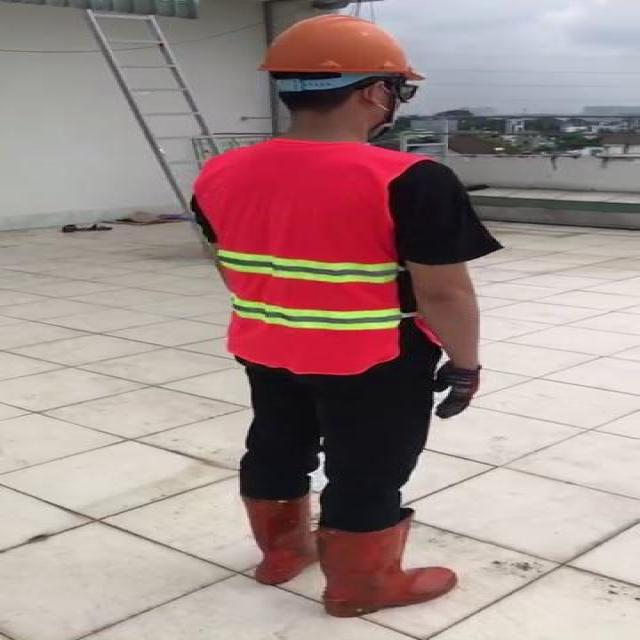boots: (314, 517, 458, 619), (237, 491, 314, 586)
hand_glove: (430, 364, 480, 421)
head_helmet: (253, 13, 422, 83)
person: (190, 18, 510, 620)
vest: (193, 141, 420, 375)
